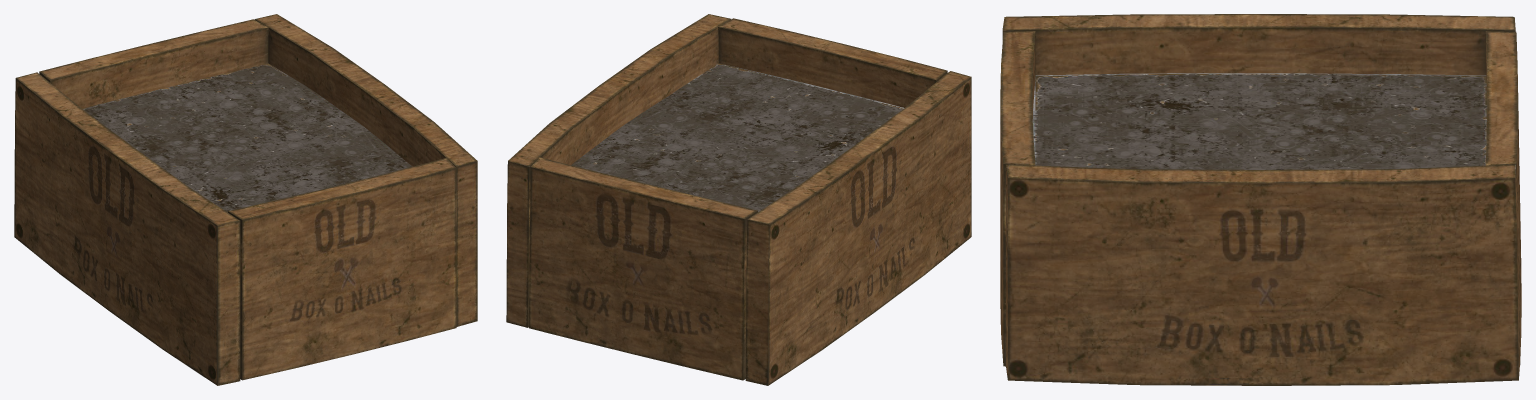
The model's file is box_of_nails0.obj.
3 renders of one model, left to right at view 1: azimuth 30°, elevation 25°; view 2: azimuth 150°, elevation 25°; view 3: azimuth 270°, elevation 25°, orthographic. The views are drawn at different scales.
Parts seen in each view (by area): view 1: Cube.001_meshId0_name; view 2: Cube.001_meshId0_name; view 3: Cube.001_meshId0_name.
Boxes of the visible parts, x1,y1,x2,y2 form: Cube.001_meshId0_name: (14, 14, 477, 385); Cube.001_meshId0_name: (506, 14, 971, 385); Cube.001_meshId0_name: (1000, 14, 1521, 385).
Size of the model in its own units: 0.9757 by 0.5437 by 1.27.
Materials: 1 (1 with a texture image).
